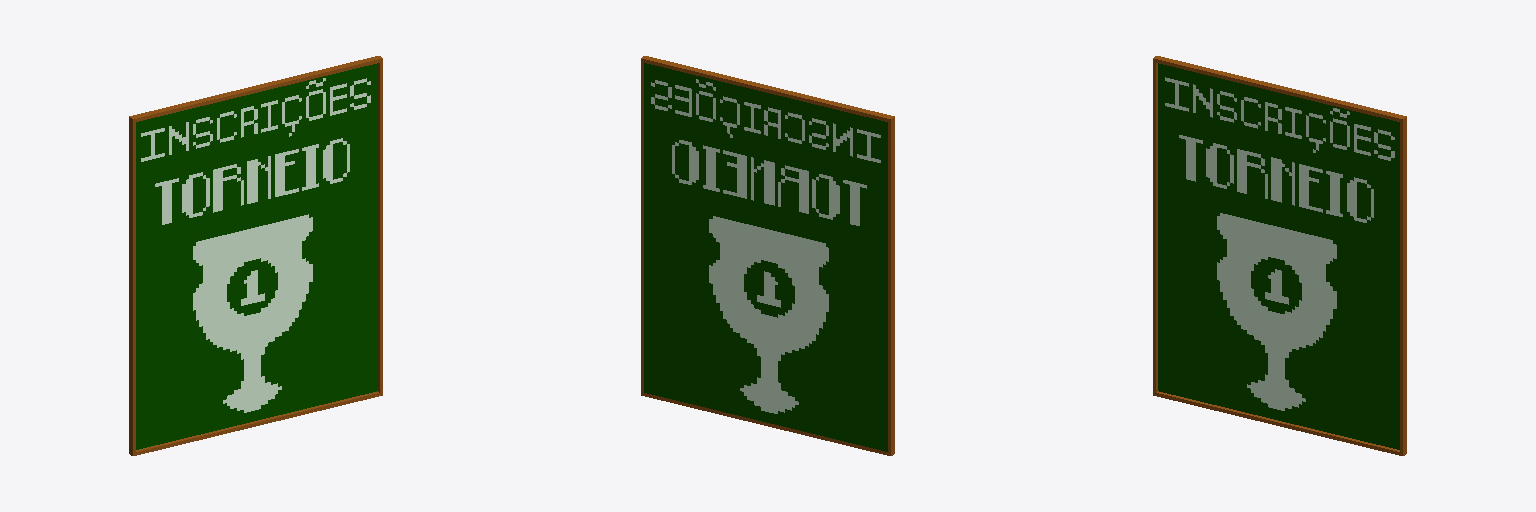
3 views of the same model, side by side, from view 1: azimuth 30°, elevation 25°; view 2: azimuth 150°, elevation 25°; view 3: azimuth 330°, elevation 25° (orthographic).
Visible parts, largest first — view 1: quadro; view 2: quadro; view 3: quadro.
Part boxes in pixels (x1,y1,x2,y2): quadro: (129, 56, 382, 455); quadro: (641, 56, 894, 455); quadro: (1153, 56, 1406, 455).
Size of the model in its own units: 73 by 94 by 2.
Materials: 1 (1 with a texture image).